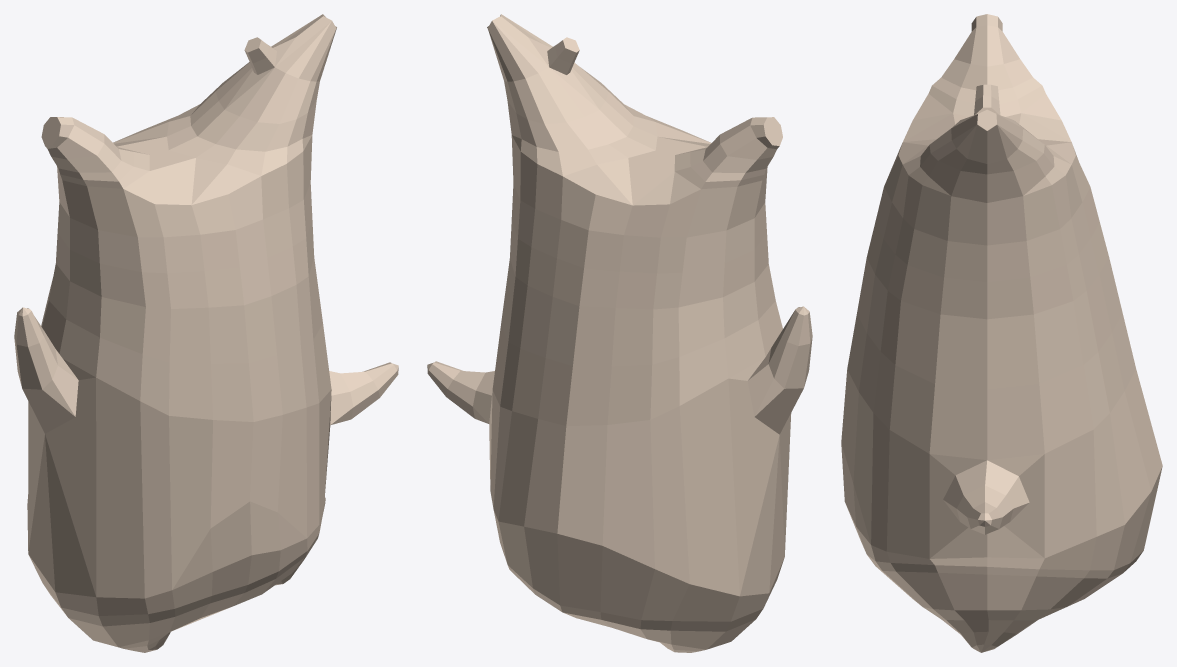
Rendered from frame_0109.obj.
The picture shows the model from 3 angles, left to right: view 1: azimuth 30°, elevation 25°; view 2: azimuth 150°, elevation 25°; view 3: azimuth 270°, elevation 25°; orthographic projection.
Parts seen in each view (by area): view 1: korok; view 2: korok; view 3: korok.
Boxes of the visible parts, box(x1,y1,x2,y2) form: korok: box(14, 14, 398, 652); korok: box(427, 14, 812, 652); korok: box(841, 14, 1162, 652).
Size of the model in its own units: 1.49 by 2.2 by 1.07.
